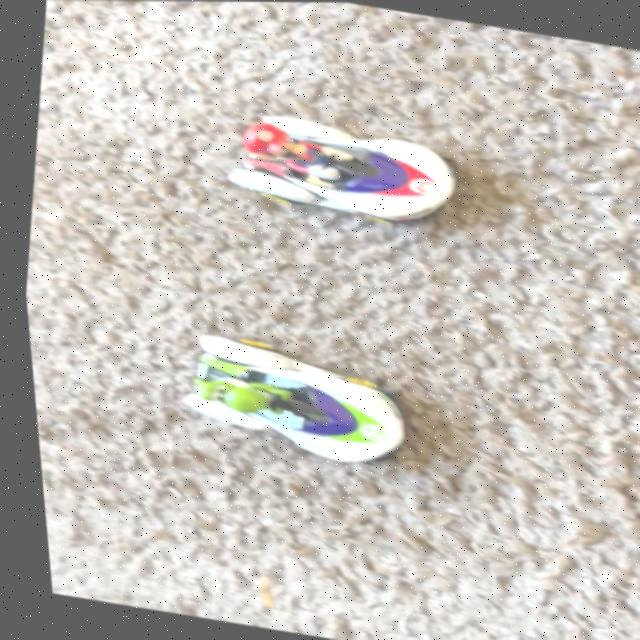mario: (201, 87, 482, 250)
yoshi: (152, 307, 436, 485)
